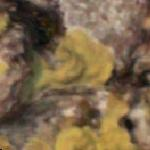alive: (5, 3, 146, 145)
